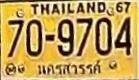0: (26, 18, 42, 56), (95, 17, 111, 54)
4: (114, 16, 131, 54)
7: (76, 17, 92, 55), (7, 19, 23, 56)
9: (57, 18, 73, 55)
NSN: (37, 60, 103, 77)
